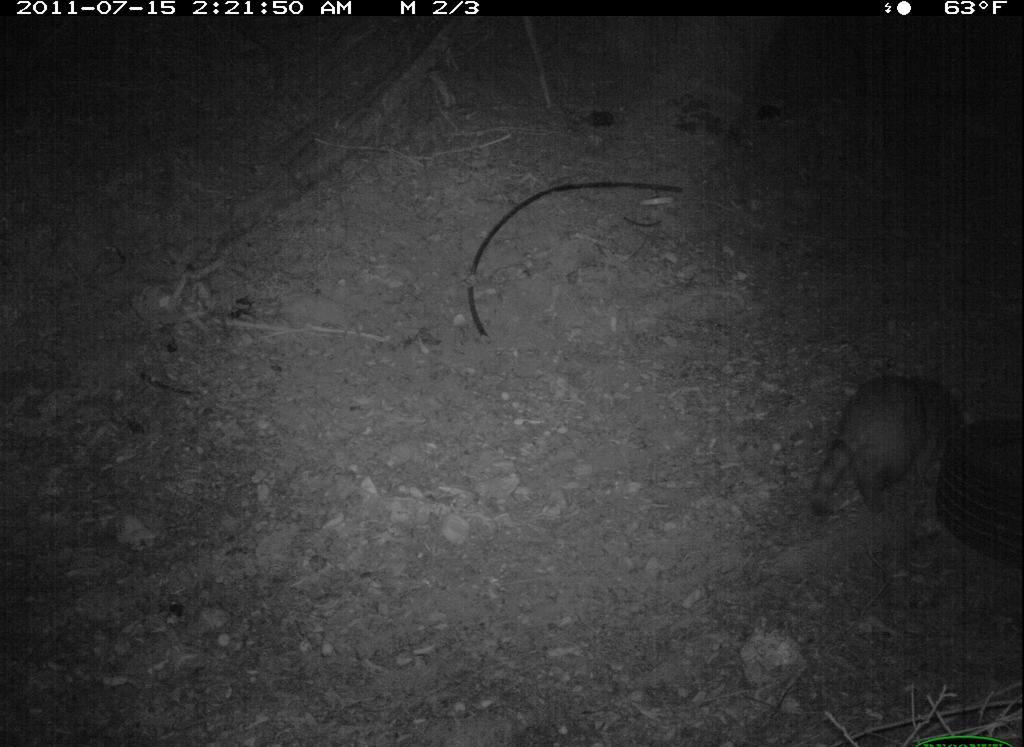raccoon: (813, 368, 978, 521)
